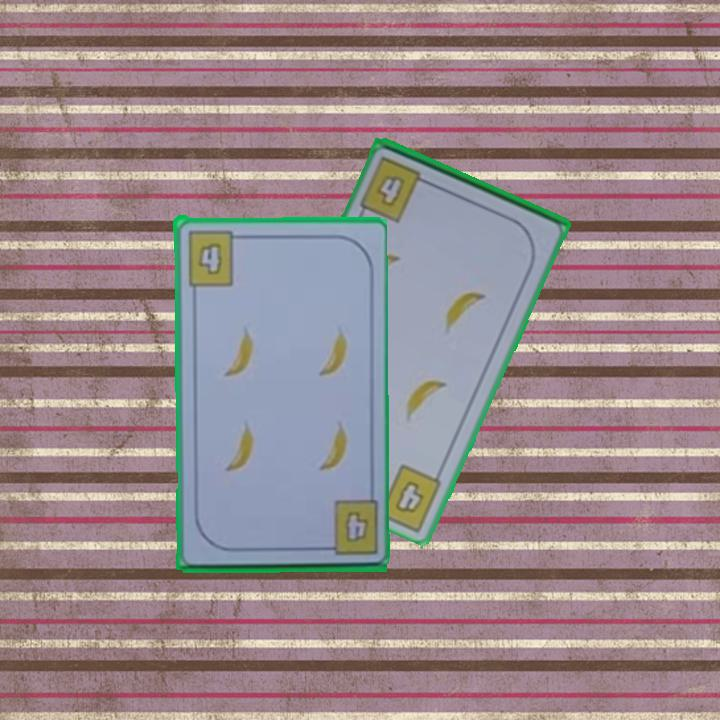4b: (356, 153, 436, 225), (184, 226, 246, 287), (391, 477, 427, 517), (340, 506, 371, 545)
